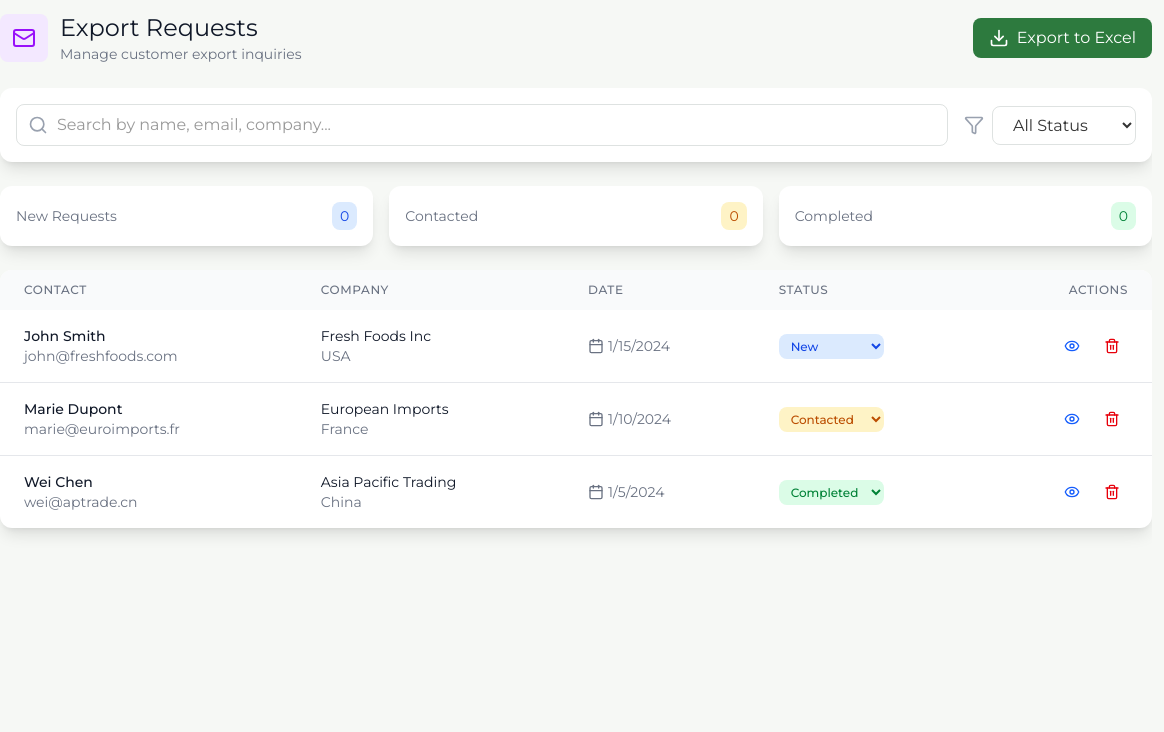
Test: AdminExportRequests › filters requests by search term (server-side)
Check: the text "John Smith" is shown, box top-left (24, 327), bottom-right (106, 345)
Type "Fresh Foods" into the field with placeholder "Search by name, email, company..." at (482, 125), box top-left (16, 104), bottom-right (948, 146)
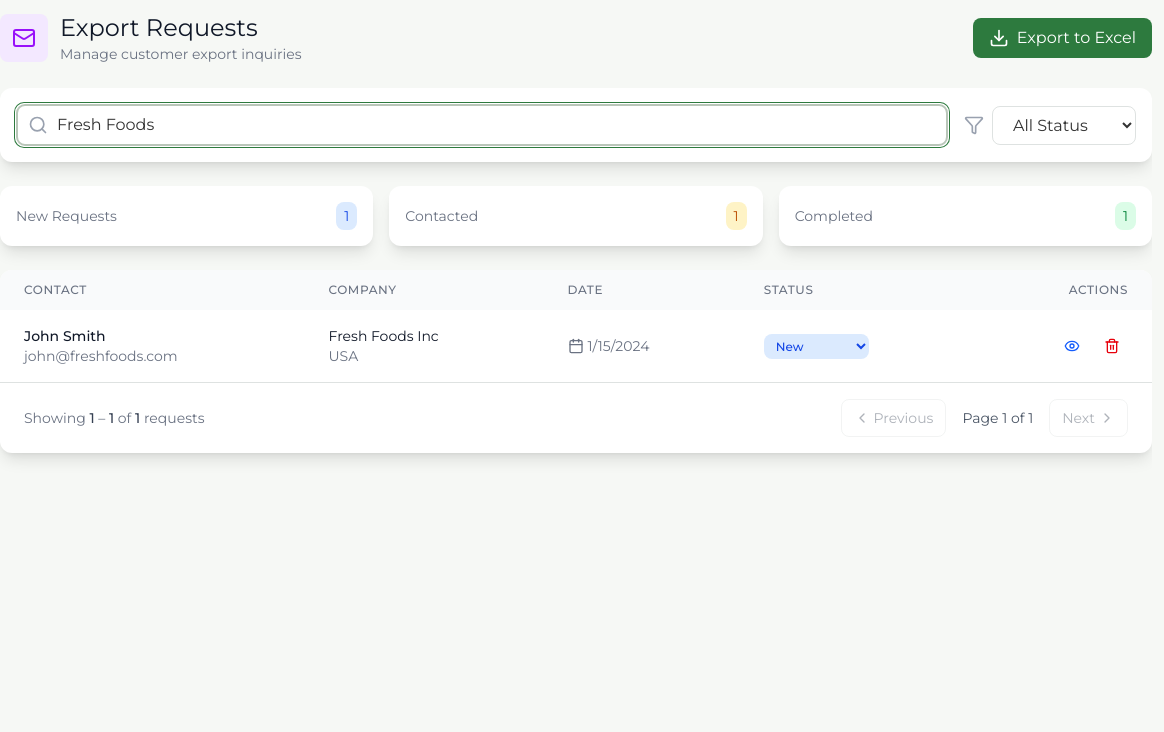
Check: the text "John Smith" is shown, box top-left (24, 327), bottom-right (106, 345)
Check: the text "Marie Dupont" is gone
Check: the text "Wei Chen" is gone
